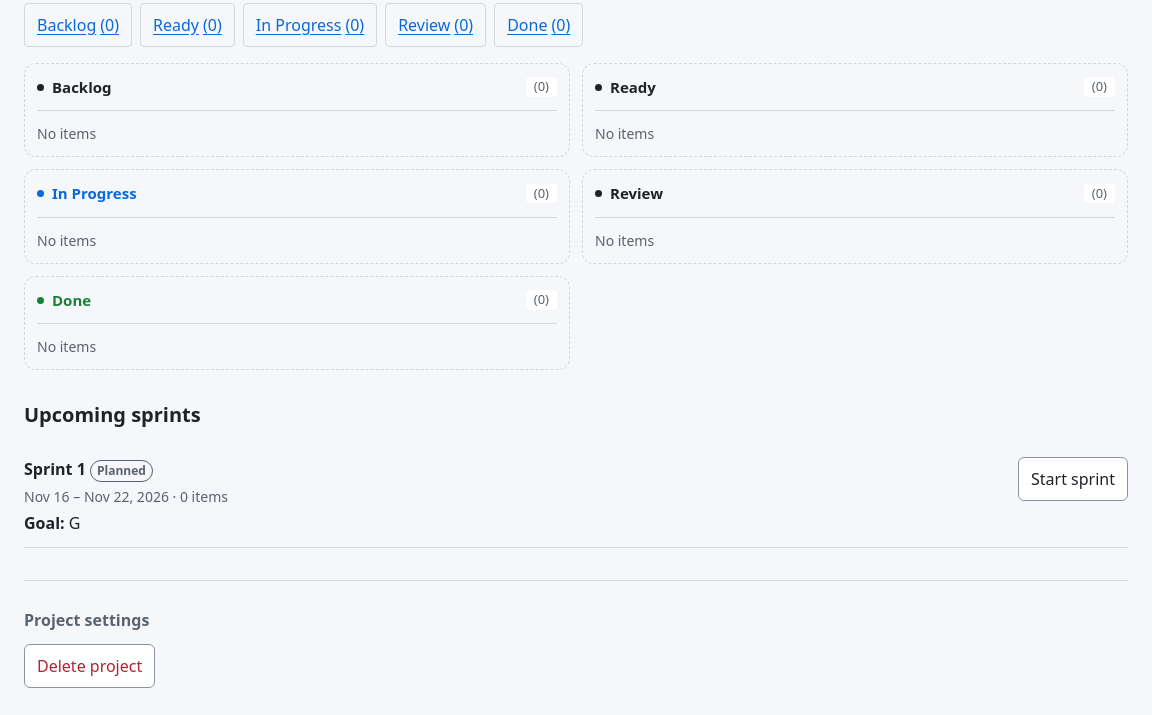
Sprints › starts a planned sprint
(page scrolled)
Click the button with aria-label "Start Sprint 1". click: (1073, 479)
box: [1018, 457, 1128, 501]
(page scrolled)
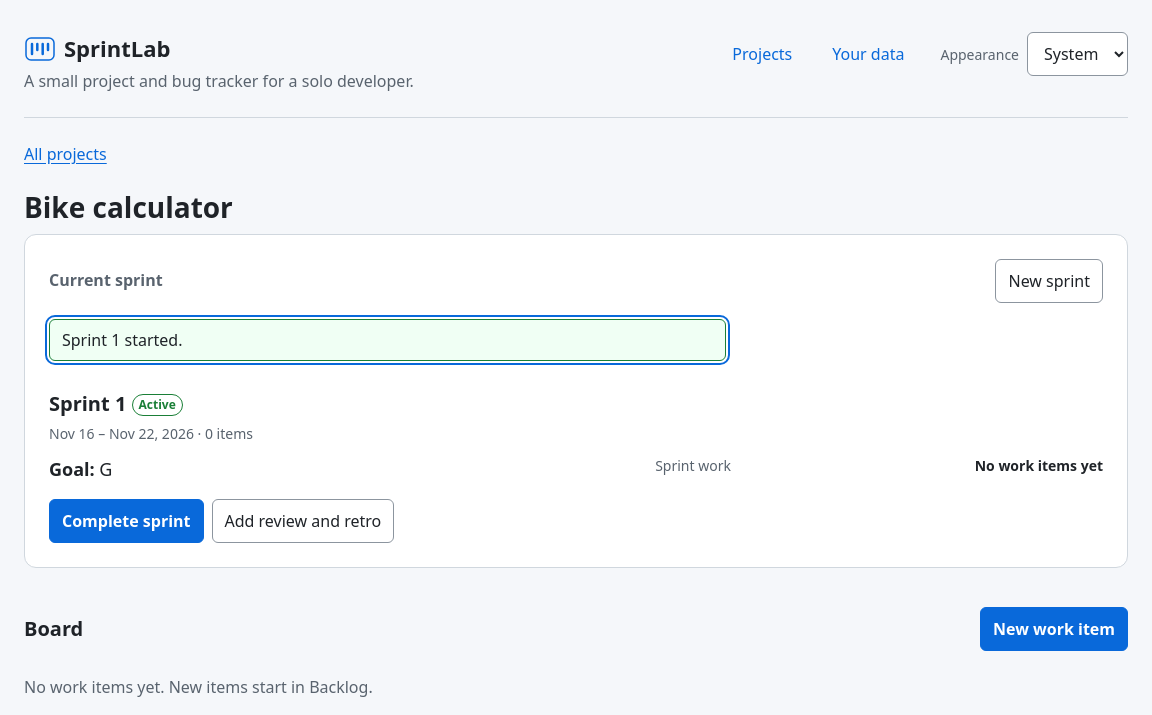
Now the heading "Sprint 1 Active" is shown, box [49, 390, 183, 417]
